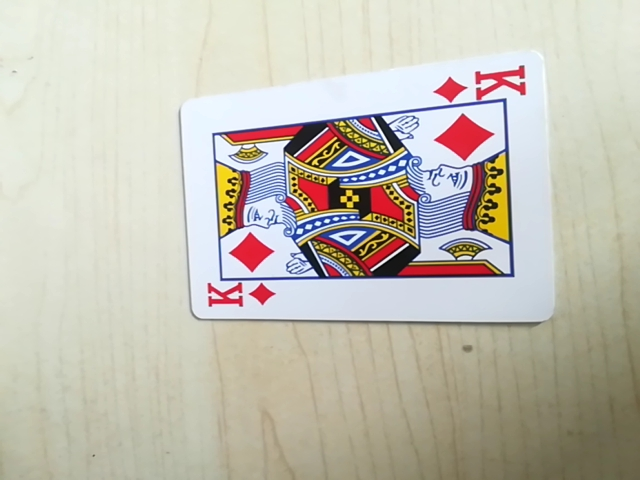fk k: (439, 60, 532, 107), (200, 278, 275, 317)
